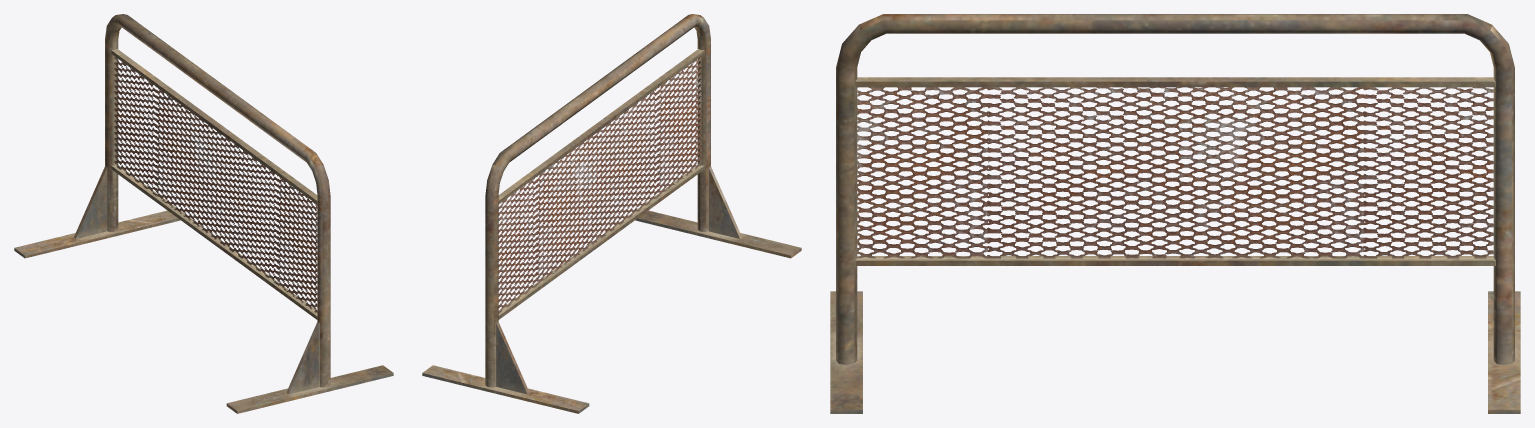
Rendered from fence_6.fbx.
The picture shows the model from 3 angles, left to right: view 1: azimuth 30°, elevation 25°; view 2: azimuth 150°, elevation 25°; view 3: azimuth 270°, elevation 25°; orthographic projection. The views are drawn at different scales.
Visible parts, largest first — view 1: var3_4; view 2: var3_4; view 3: var3_4.
Boxes of the visible parts, left/top/right/bottom form: var3_4: left=14, top=14, right=393, bottom=413; var3_4: left=422, top=14, right=801, bottom=413; var3_4: left=830, top=14, right=1520, bottom=413.
Bounding box in the file's own units: 70.83 × 98.14 × 175.
Materials: 1 (1 with a texture image).
